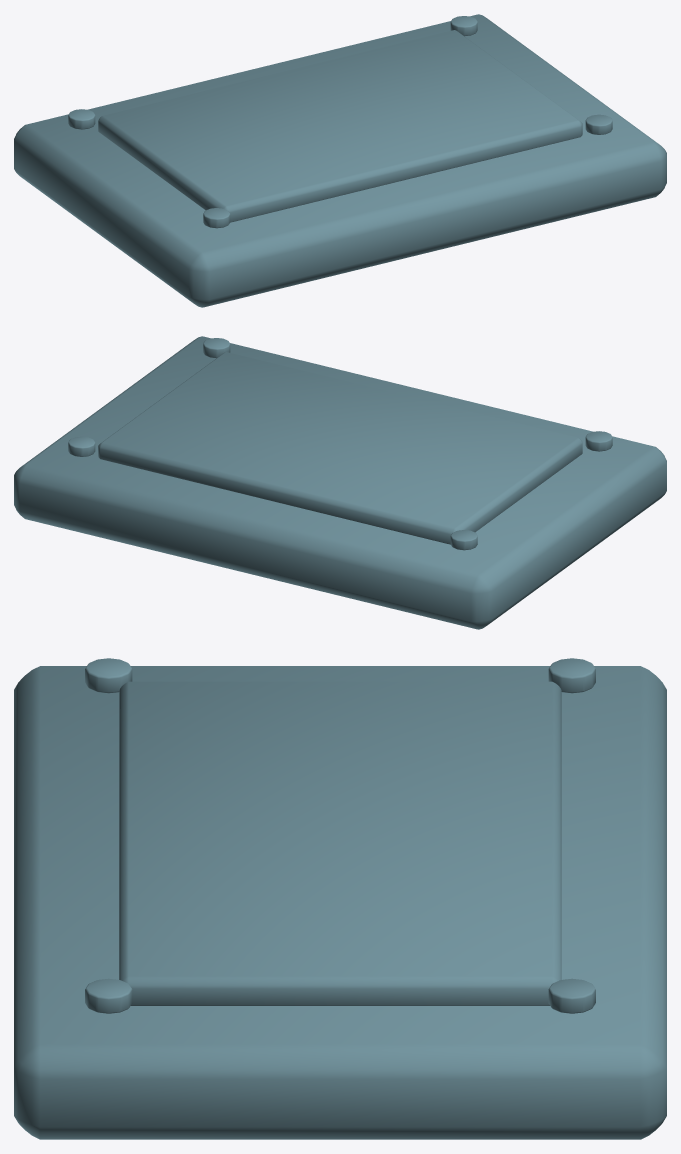
The model's file is SweptWing.fbx.
3 views of the same model, one above another, from view 1: azimuth 30°, elevation 25°; view 2: azimuth 150°, elevation 25°; view 3: azimuth 270°, elevation 25° (orthographic). The views are drawn at different scales.
Visible parts, largest first — view 1: Render_LOD0; view 2: Render_LOD0; view 3: Render_LOD0.
Boxes of the visible parts, bbox=[...] form: Render_LOD0: bbox=[14, 14, 666, 307]; Render_LOD0: bbox=[14, 336, 666, 629]; Render_LOD0: bbox=[14, 658, 666, 1139].
Size of what is drawn, in the model's own units: 1.8 by 0.2575 by 1.24.
